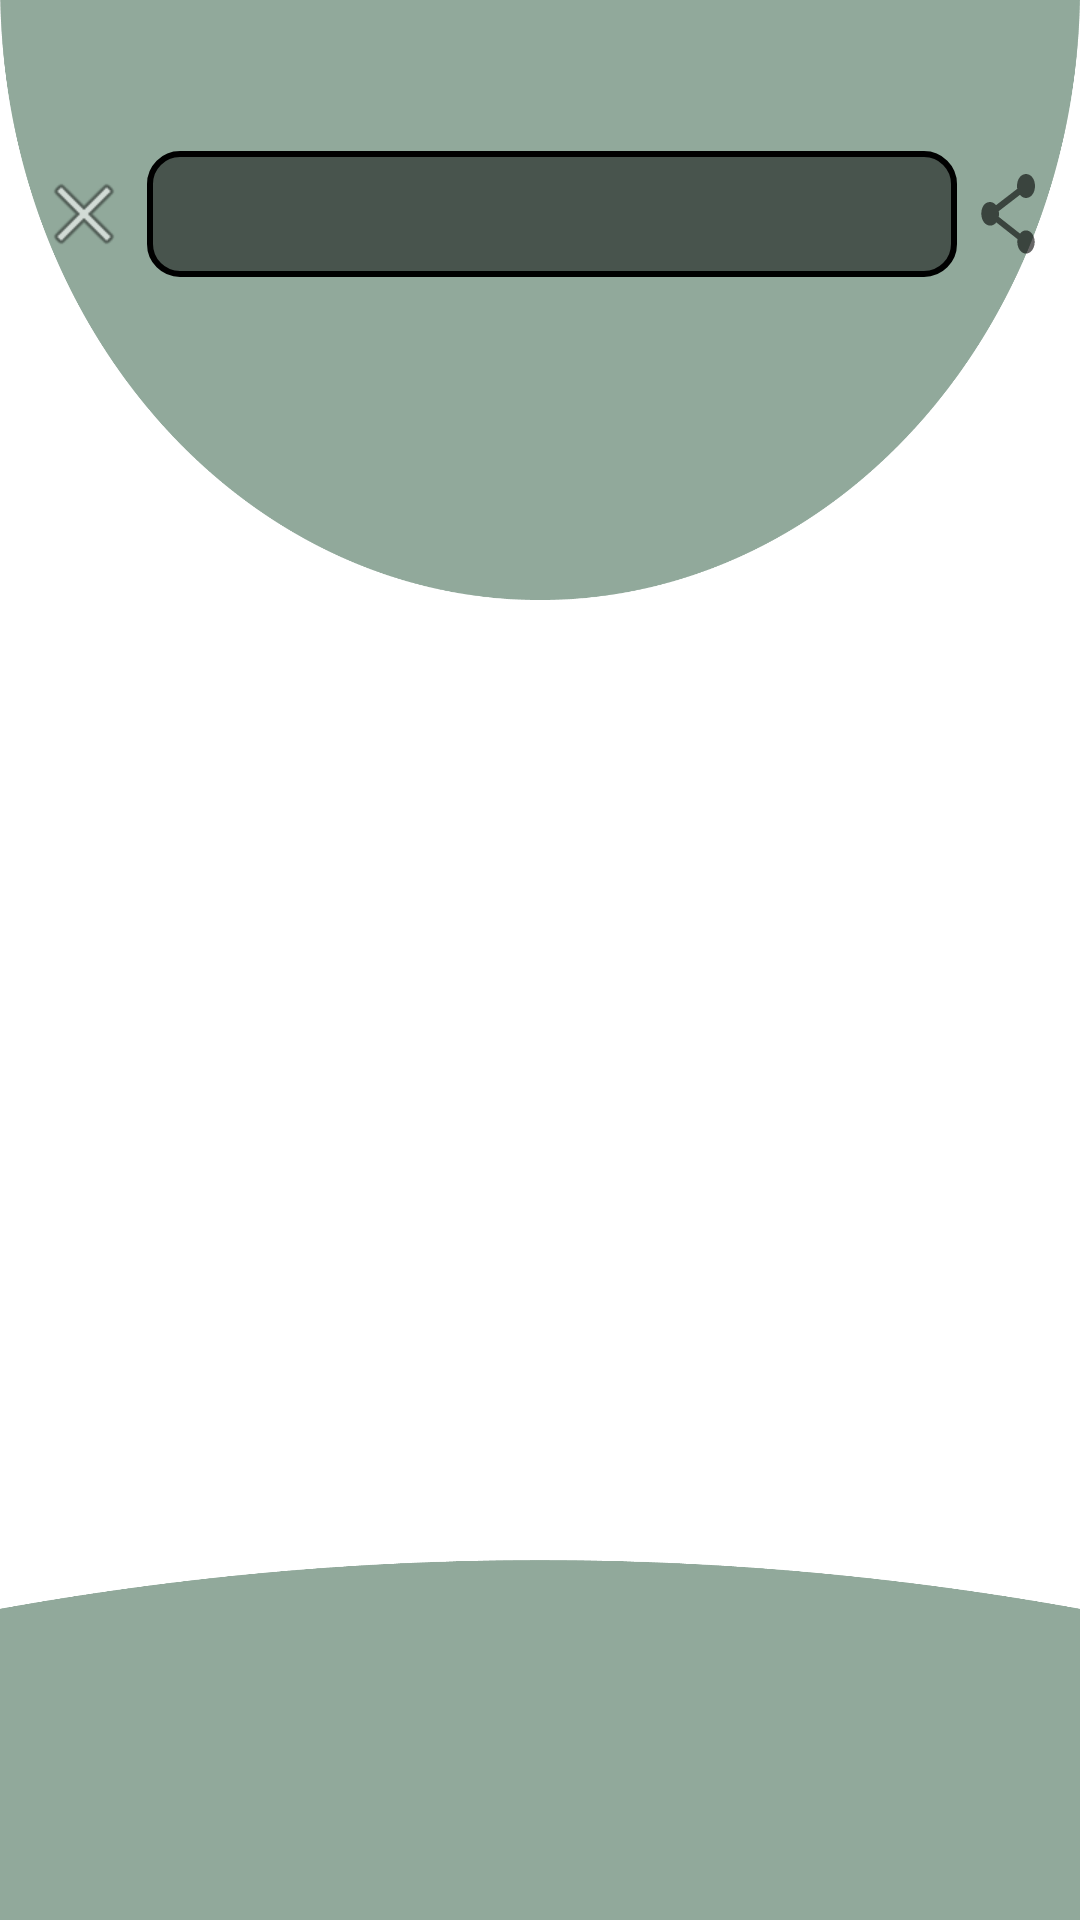

Point at icon controls on the screen. Image size 1080×1920, points as point (x, y).
close clear cancel: point (84, 214)
share: point (1012, 218)
